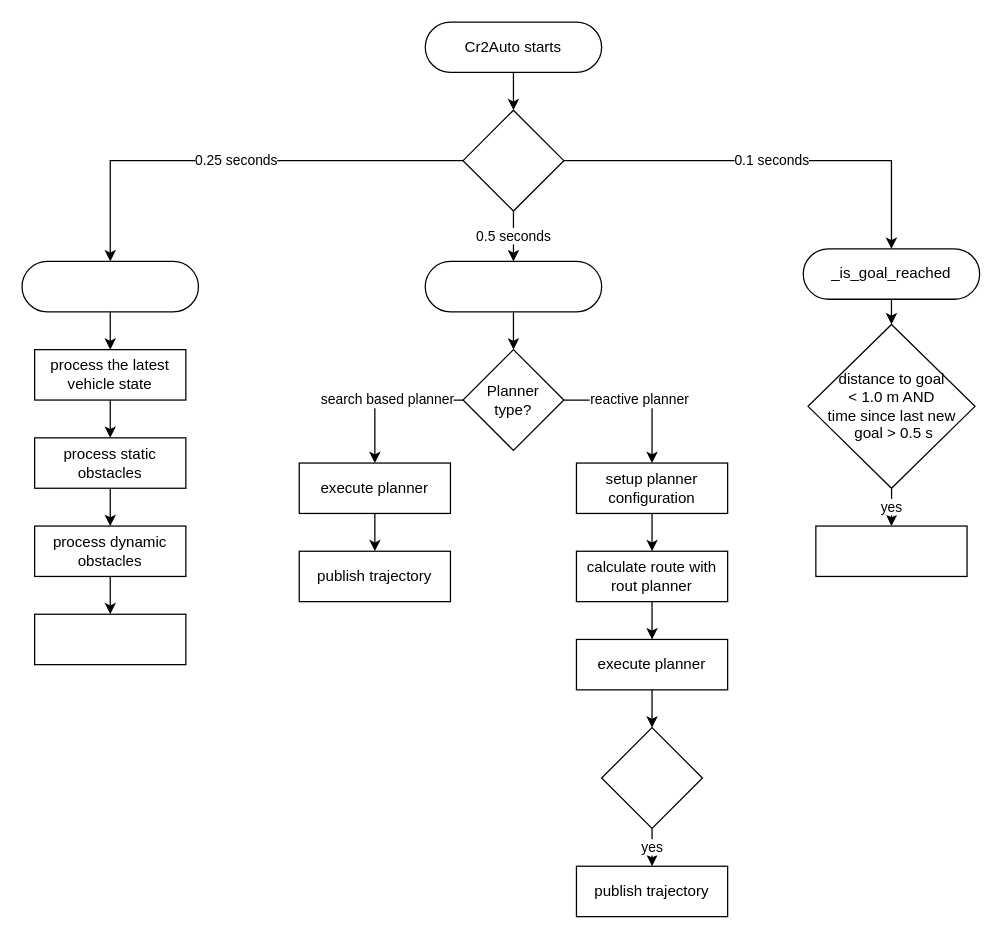
Some shapes in this 1002 by 939 pixel diagram are drawn without their labels. The shapes that lost their labels are listed below. From the top down, each one's centre as x and y in pixels, then its label:
pixel 513 160: timer callback
pixel 109 286: update_scenario
pixel 513 286: solve_planning_problem
pixel 891 550: replace current goal by next goal from list
pixel 109 639: plot scenario
pixel 651 777: trajectory optimal
